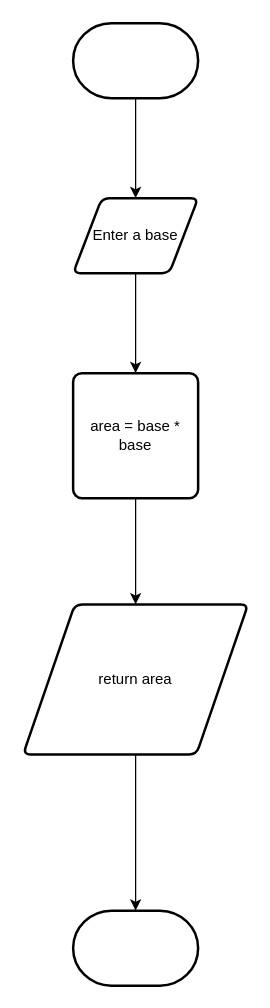
This 270x1008 diagram has some shape labels left out. The centre of each missing label's shape, as x and y in pixels:
"Start" belongs at (x=135, y=60).
"Stop" belongs at (x=135, y=947).
